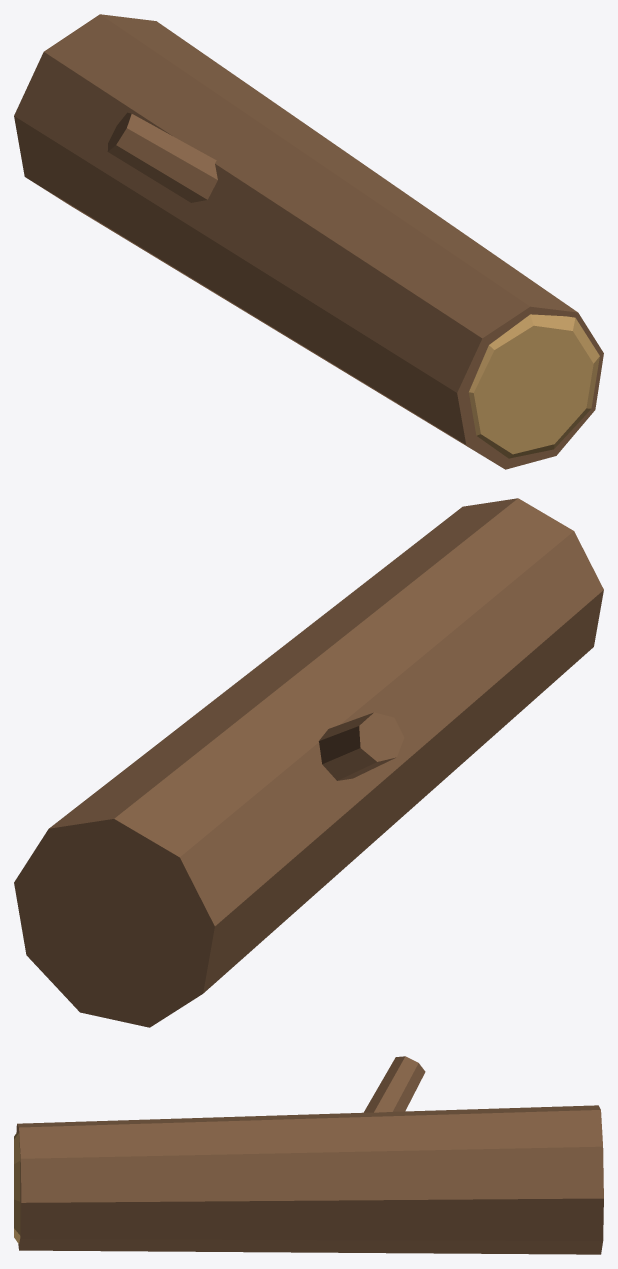
Rendered from log.glb.
The picture shows the model from 3 angles, top to bottom: view 1: azimuth 30°, elevation 25°; view 2: azimuth 150°, elevation 25°; view 3: azimuth 270°, elevation 25°; orthographic projection. The views are drawn at different scales.
Parts seen in each view (by area): view 1: log__Log_bark, log__Cut_timber; view 2: log__Log_bark; view 3: log__Log_bark, log__Cut_timber.
Part boxes in pixels (x1,y1,x2,y2): log__Log_bark: (14,14,603,469); log__Cut_timber: (469,314,599,458); log__Log_bark: (14,498,603,1027); log__Log_bark: (16,1056,603,1254); log__Cut_timber: (14,1132,20,1243).
Size of the model in its own units: 0.873 by 0.7441 by 2.64.
